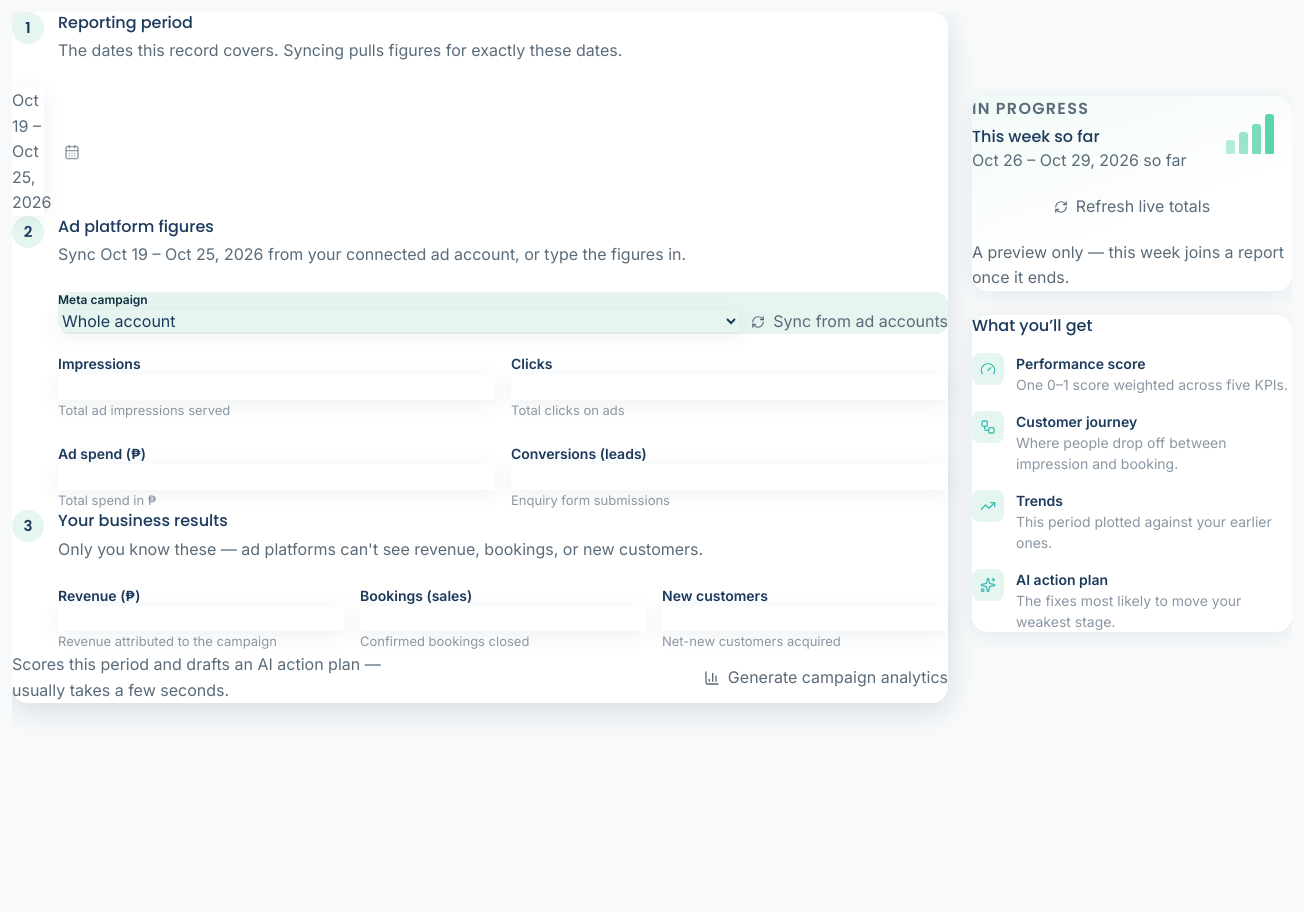
Test case: IngestionForm live week-to-date panel › says there is no delivery yet instead of a row of zeros
Click the button "Refresh live totals" at (1132, 207), box x1=972 y1=190 x2=1292 y2=224
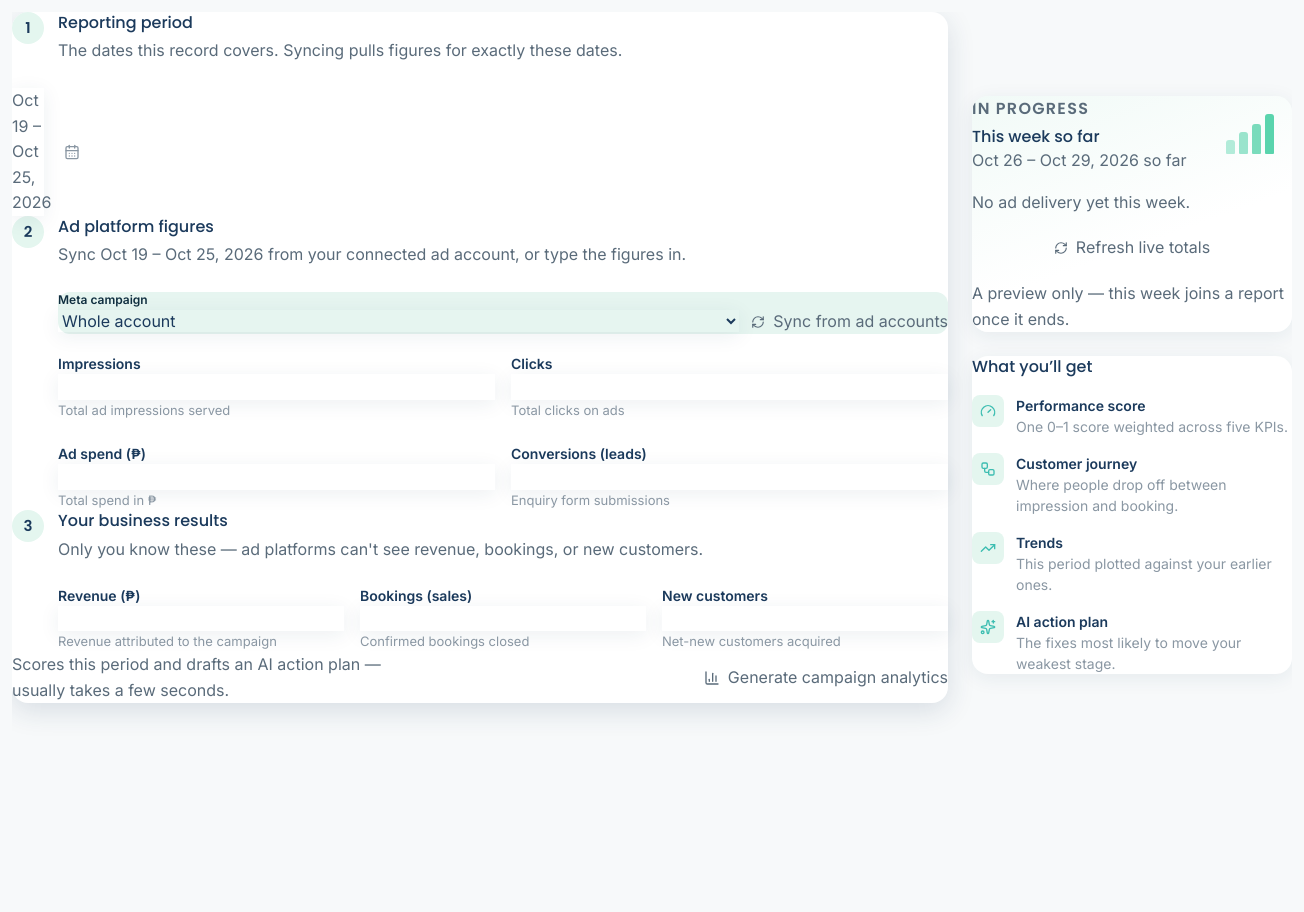
Result: the text "No ad delivery yet this week." is shown at x1=972 y1=192 x2=1190 y2=212
